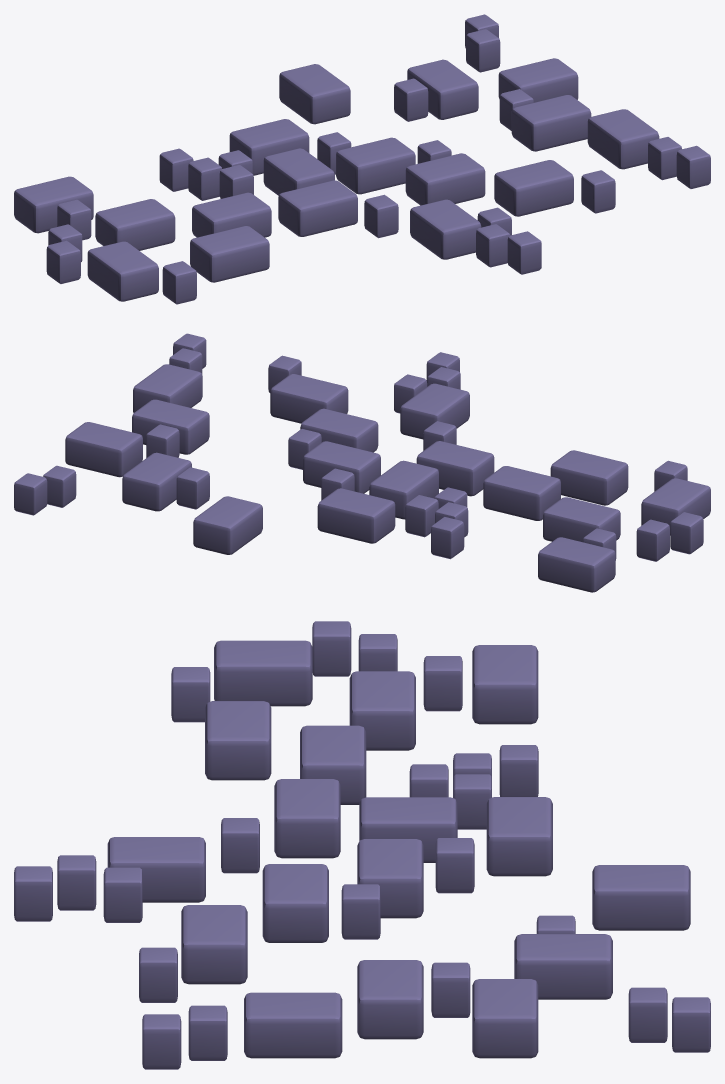
The model's file is pathnoground.fbx.
3 renders of one model, top to bottom at view 1: azimuth 30°, elevation 25°; view 2: azimuth 150°, elevation 25°; view 3: azimuth 270°, elevation 25°, orthographic. The views are drawn at different scales.
Parts seen in each view (by area): view 1: GroundWithCobblestone; view 2: GroundWithCobblestone; view 3: GroundWithCobblestone.
Boxes of the visible parts, x1,y1,x2,y2 form: GroundWithCobblestone: (14, 14, 710, 304); GroundWithCobblestone: (14, 333, 710, 592); GroundWithCobblestone: (14, 621, 710, 1069).
Bounding box in the file's own units: 20.01 × 0.9883 × 14.43.
